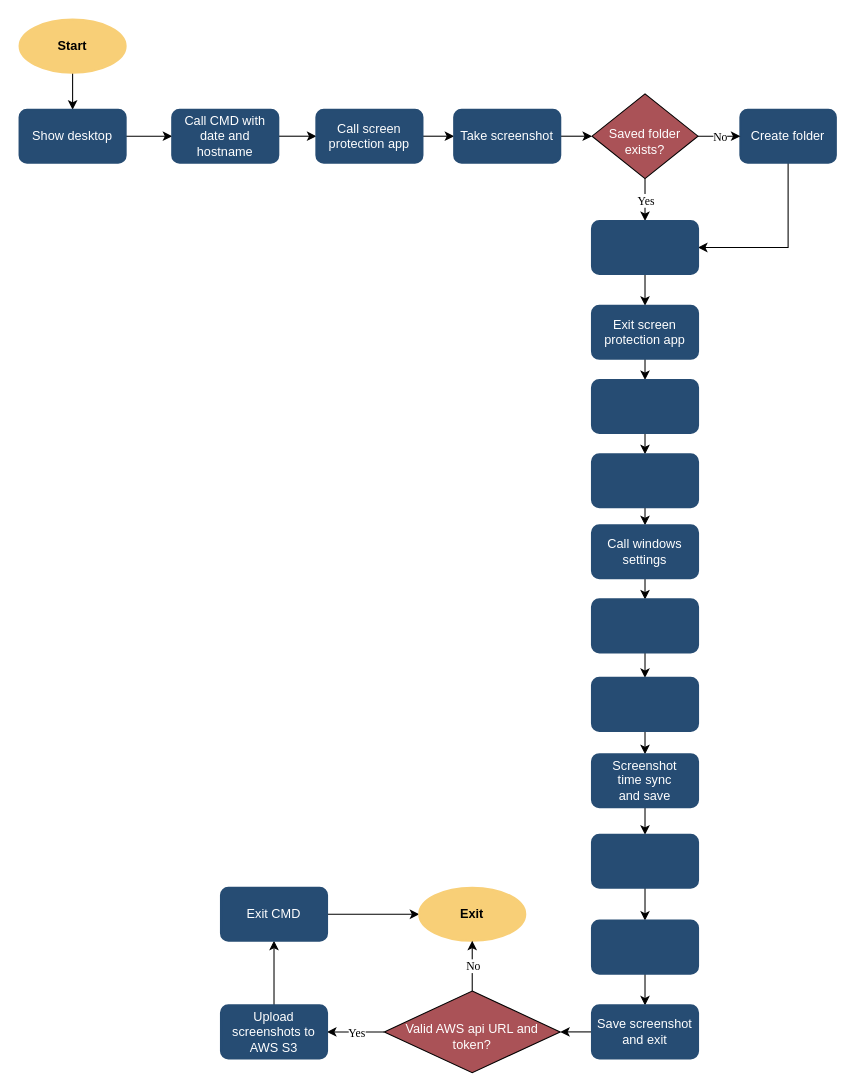
Image size: 854x1091. Some labels were removed from this diagram. Each missing label, with the centre of its shape:
Call antivirus app: point 644,946
Call app wizard: point 644,406
Exit windows setting: point 644,860
Save screnshot and exit: point 644,480
Save the screenshot: point 644,247
Screenshot windows update and save: point 644,625
Screenshot windows update history and save: point 644,703
